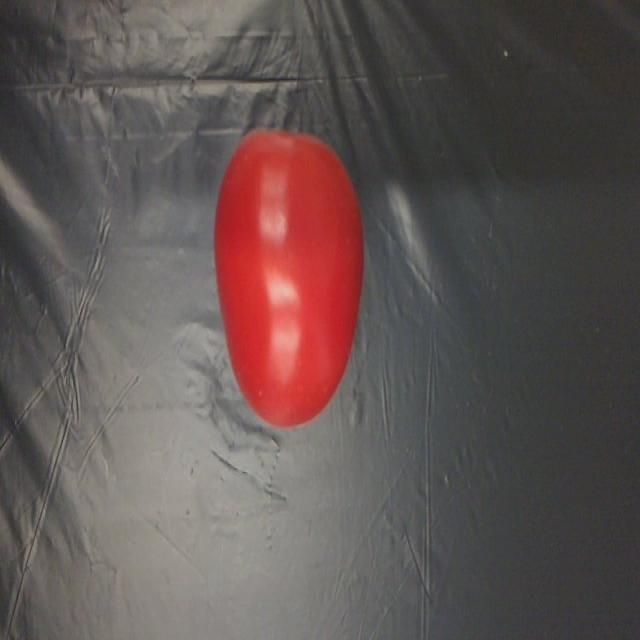kirmizi: (195, 120, 372, 429)
